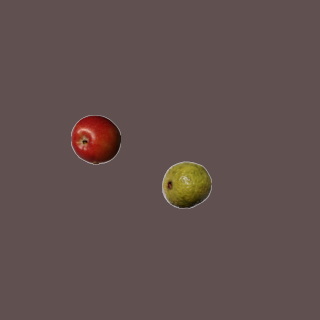Apple Braeburn: (70, 114, 120, 164)
Guava: (161, 159, 211, 209)
